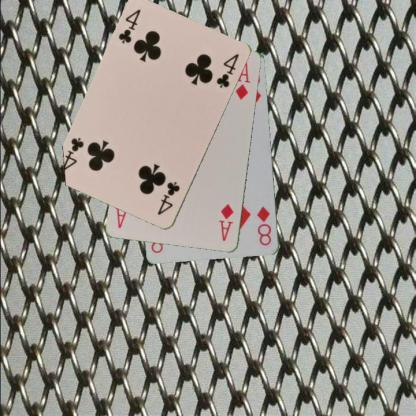4c: (116, 7, 142, 46), (155, 178, 181, 216)
8d: (254, 204, 273, 247)
Ad: (217, 201, 235, 243)
